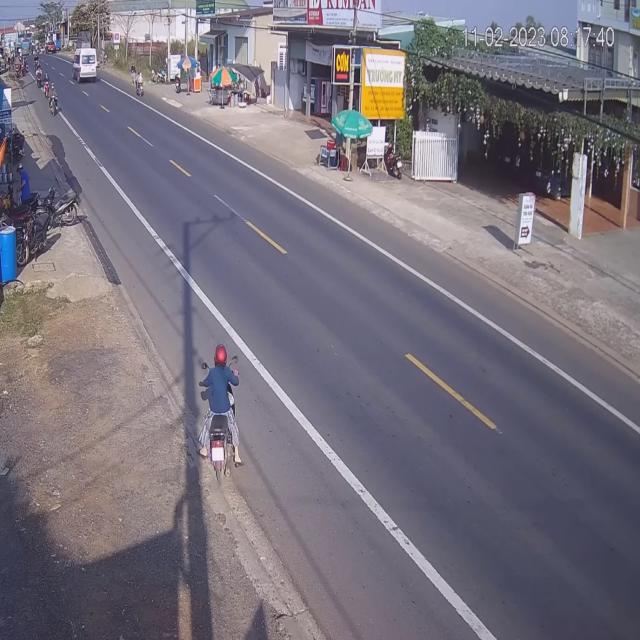bus: (74, 48, 98, 84)
motorbike: (200, 346, 241, 474), (47, 82, 56, 115)
